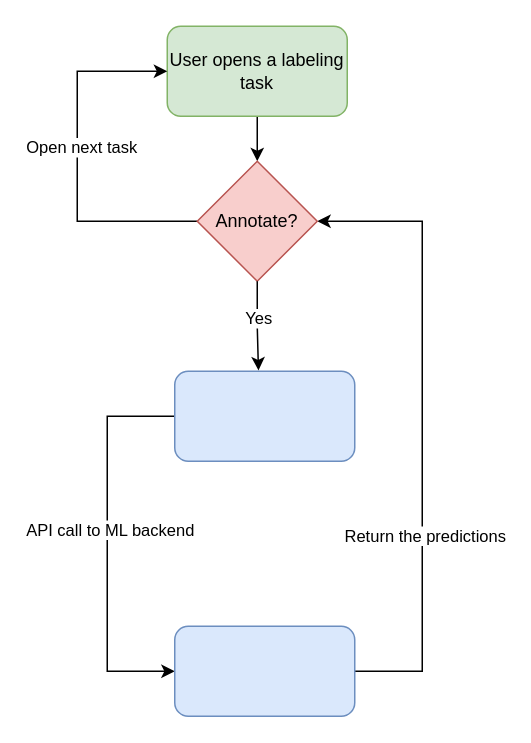
The diagram is 531 pixels wide and 743 high, and some of its shapes have lost their labels. Each missing label, with the centre of its shape:
ML Backend generates prediction: point (264, 670)
User labels the data: point (264, 415)
